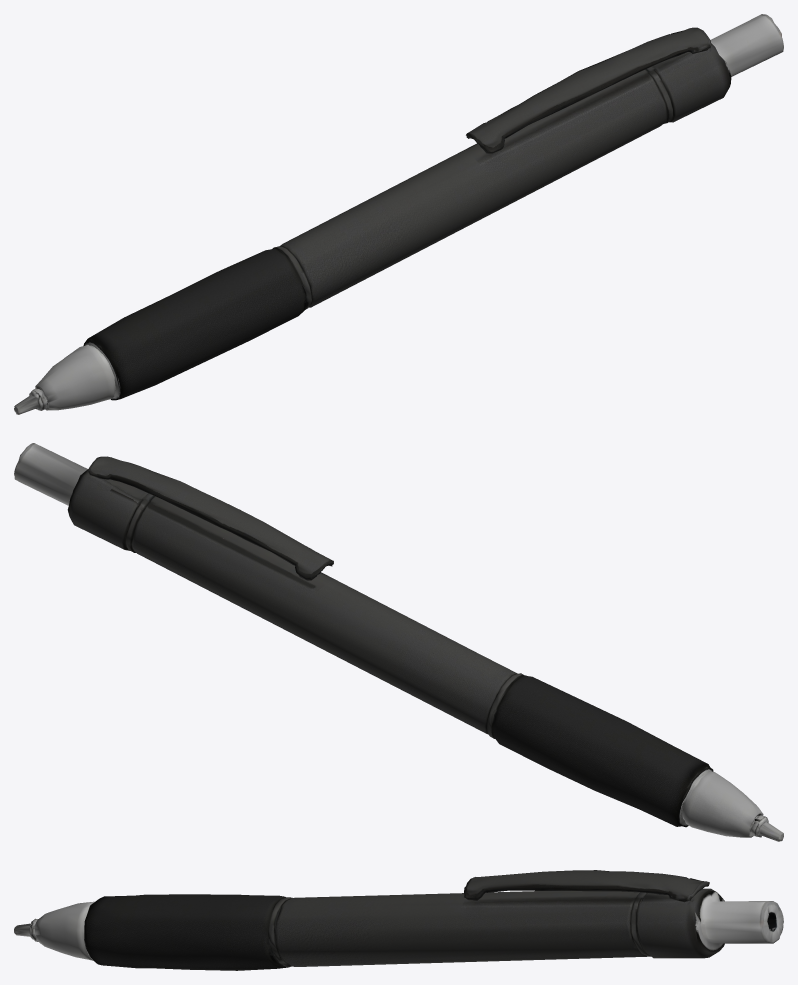
The model's file is stylus pen 3d model.glb.
3 renders of one model, top to bottom at view 1: azimuth 30°, elevation 25°; view 2: azimuth 150°, elevation 25°; view 3: azimuth 330°, elevation 25°, orthographic.
Visible parts, largest first — view 1: tripo_node_b344065f-a555-42f5-a7c2-cef4940cb5e5; view 2: tripo_node_b344065f-a555-42f5-a7c2-cef4940cb5e5; view 3: tripo_node_b344065f-a555-42f5-a7c2-cef4940cb5e5.
Part boxes in pixels (x1,y1,x2,y2): tripo_node_b344065f-a555-42f5-a7c2-cef4940cb5e5: [14, 14, 783, 414]; tripo_node_b344065f-a555-42f5-a7c2-cef4940cb5e5: [14, 443, 783, 841]; tripo_node_b344065f-a555-42f5-a7c2-cef4940cb5e5: [14, 870, 783, 970].
Size of the model in its own units: 0.998 by 0.2793 by 0.0879.
1 material, 1 textured.
